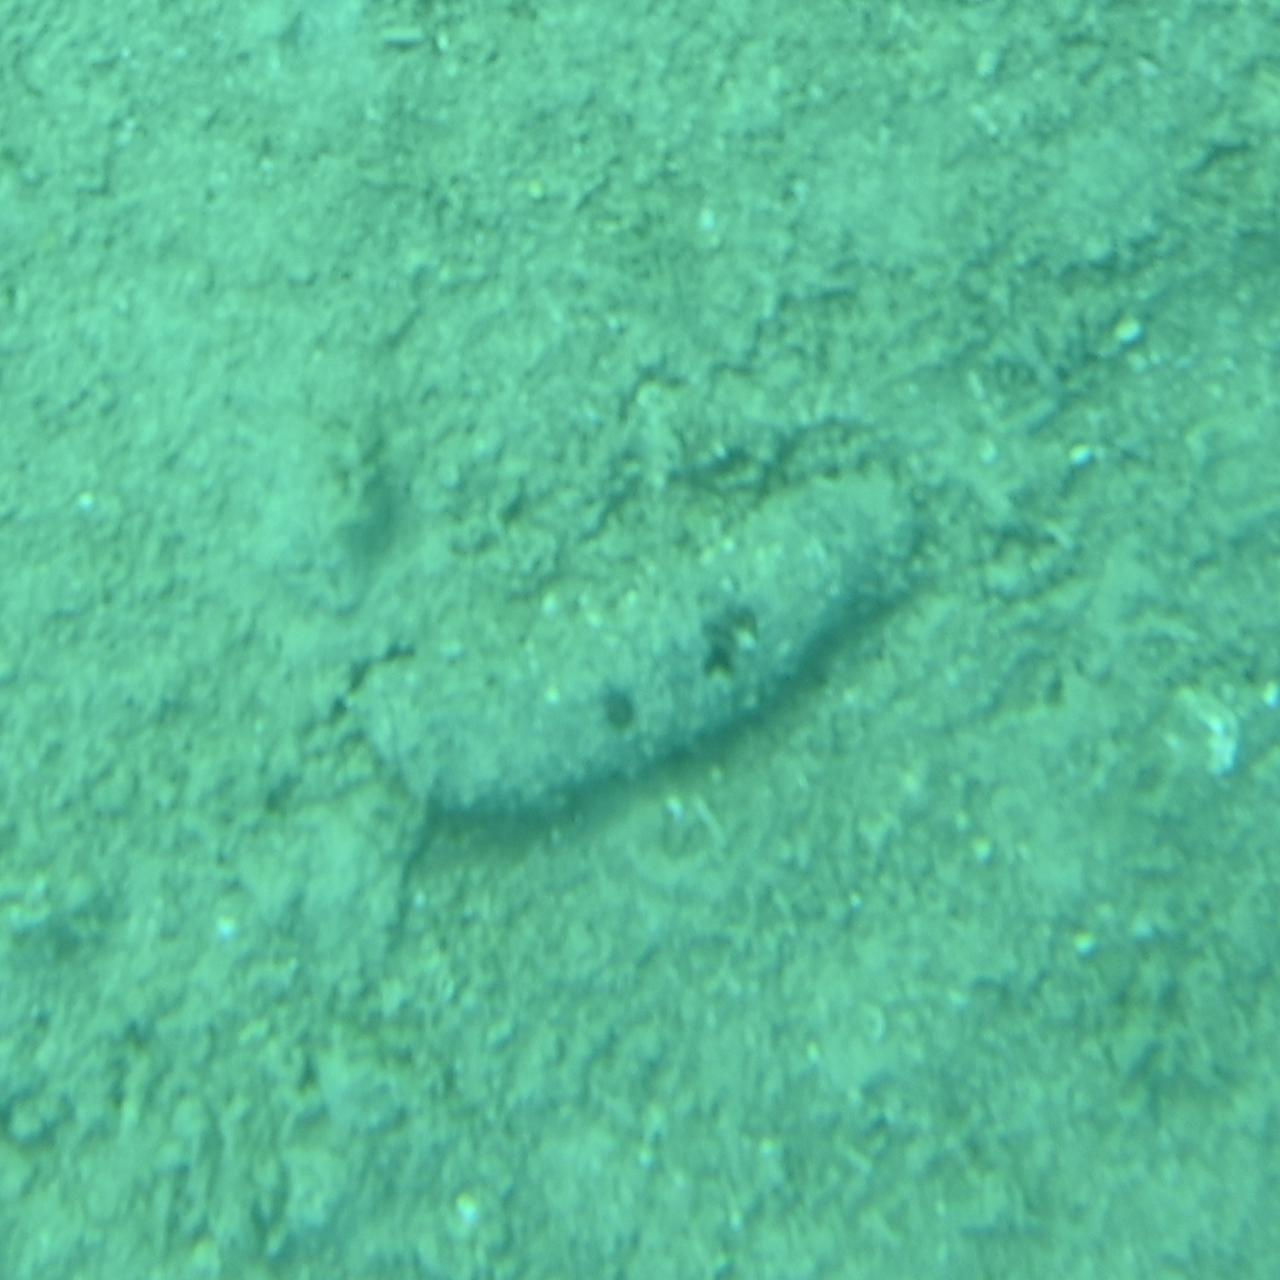Holothuria tubulosa: (335, 461, 945, 865)
